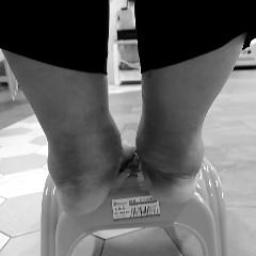Back View -Both Feet-: (18, 86, 225, 222)
